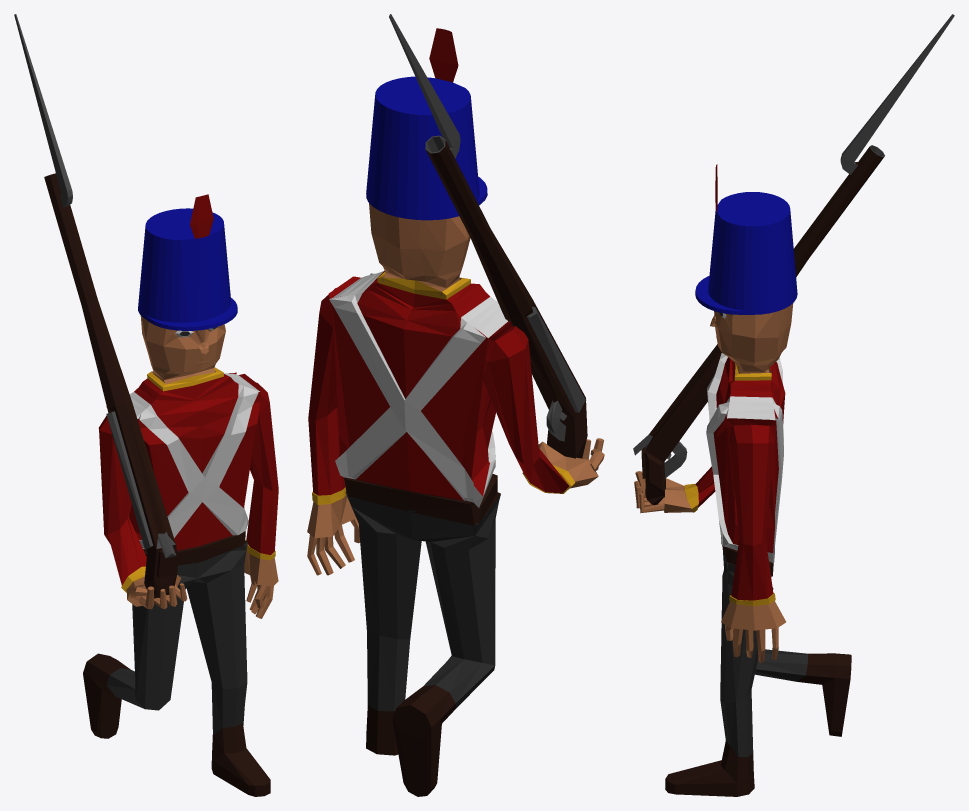
The model's file is Infantry_000148.obj.
3 views of the same model, side by side, from view 1: azimuth 30°, elevation 25°; view 2: azimuth 150°, elevation 25°; view 3: azimuth 270°, elevation 25° (orthographic). The views are drawn at different scales.
Visible parts, largest first — view 1: {Man}_Circle, {Mesket}_Cube.001; view 2: {Man}_Circle, {Mesket}_Cube.001; view 3: {Man}_Circle, {Mesket}_Cube.001.
Boxes of the visible parts, x1=… form: {Man}_Circle: x1=83, y1=194, x2=278, y2=796; {Mesket}_Cube.001: x1=14, y1=14, x2=177, y2=598; {Man}_Circle: x1=307, y1=28, x2=604, y2=796; {Mesket}_Cube.001: x1=389, y1=14, x2=587, y2=458; {Man}_Circle: x1=634, y1=164, x2=851, y2=796; {Mesket}_Cube.001: x1=633, y1=14, x2=954, y2=505.
Bounding box in the file's own units: 5.63 × 19.62 × 7.93.
